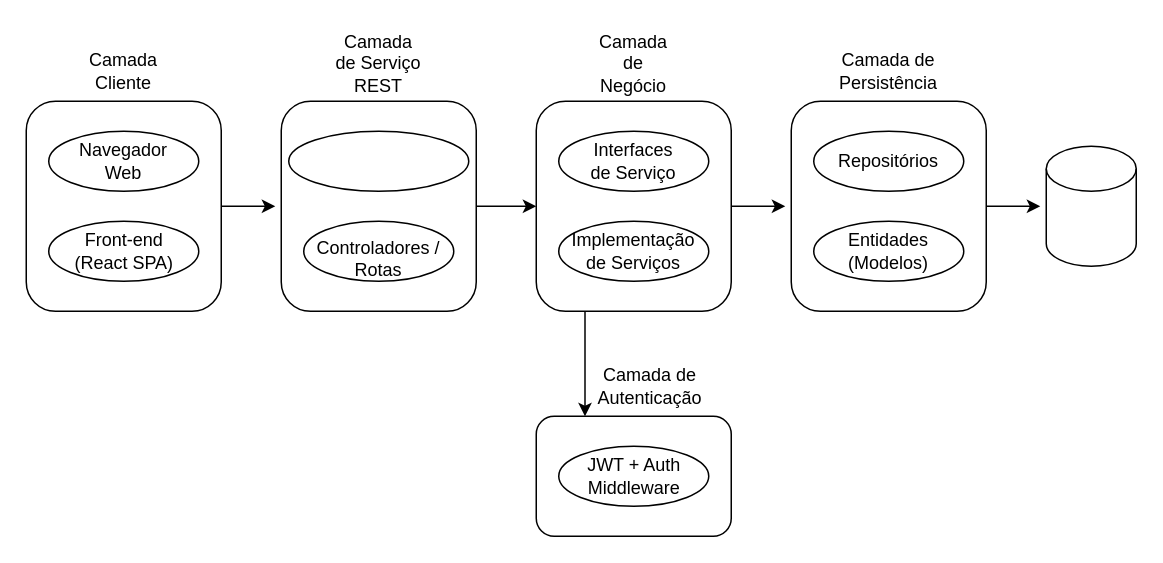
This 1163x563 diagram has some shape labels left out. Each missing label, with the centre of its shape:
"API REST (Node.js/Express)" belongs at point 378,160.
"MySQL" belongs at point 1090,205.
